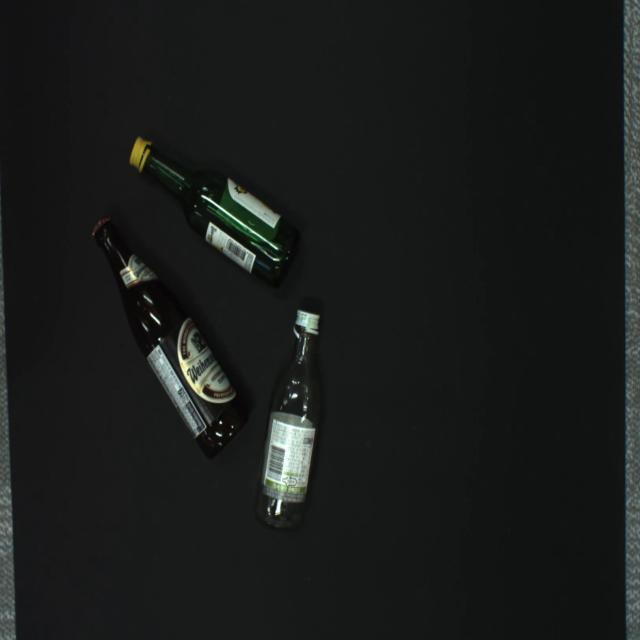beer-bottle: (93, 217, 247, 457)
soju-bottle: (130, 138, 298, 287), (254, 309, 322, 531)
